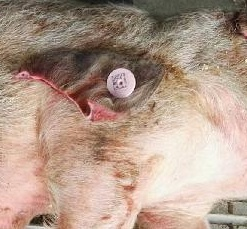text: (95, 58, 149, 108)
